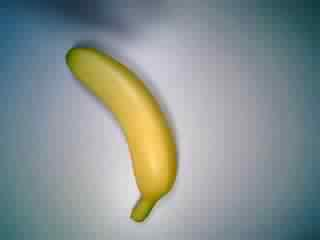banana: (57, 41, 184, 224)
